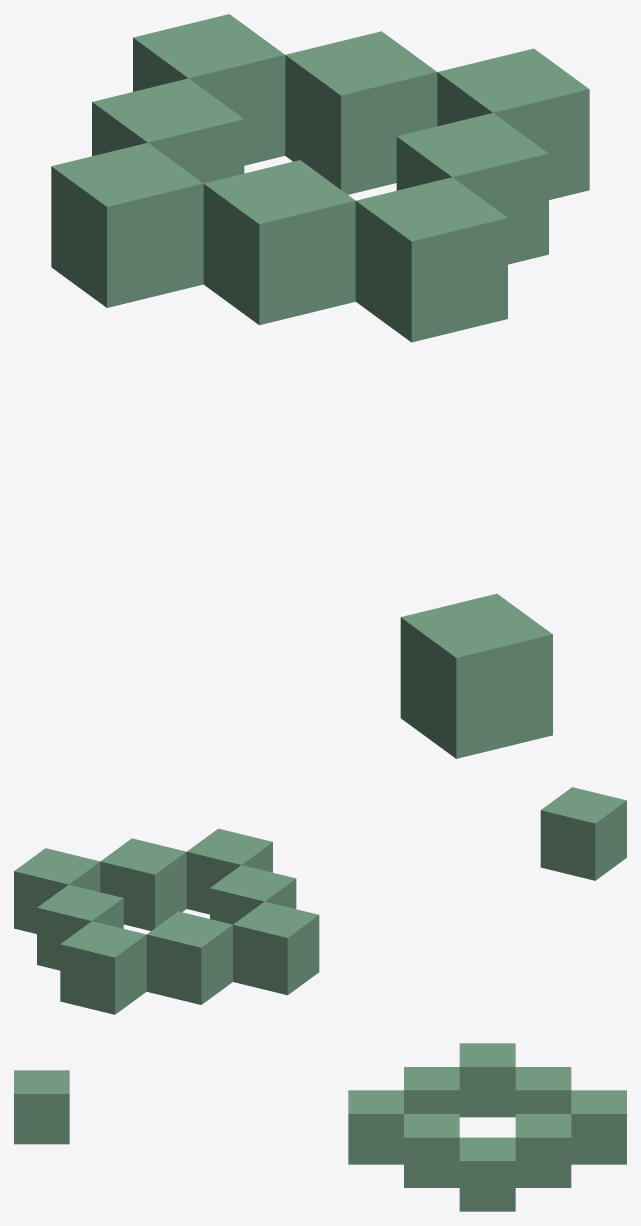
Rendered from Sign-True.obj.
3 views of the same model, one above another, from view 1: azimuth 30°, elevation 25°; view 2: azimuth 150°, elevation 25°; view 3: azimuth 270°, elevation 25° (orthographic). The views are drawn at different scales.
Bounding box in the file's own units: 0.6 × 0.2 × 1.1.
